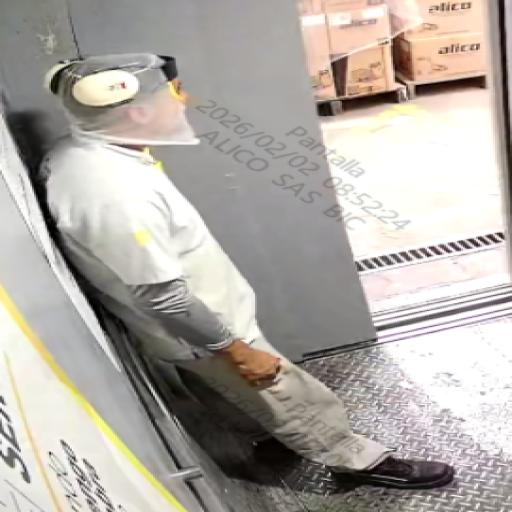persona: (0, 11, 512, 512)
